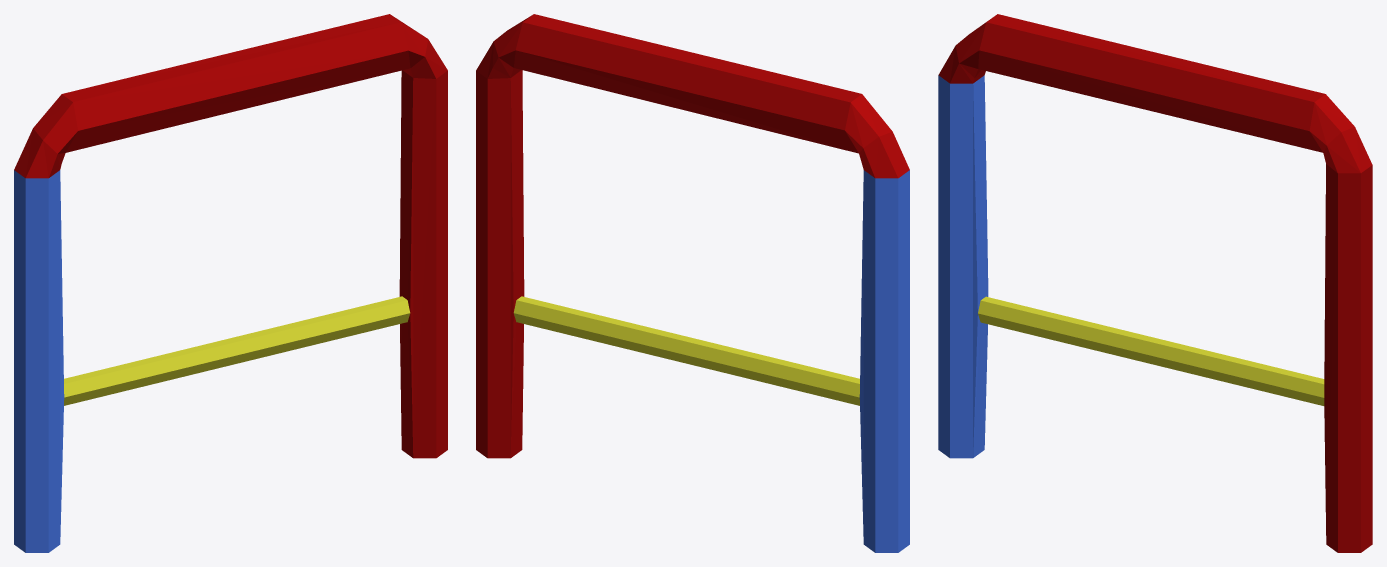
Rendered from Wieszak.fbx.
The picture shows the model from 3 angles, left to right: view 1: azimuth 30°, elevation 25°; view 2: azimuth 150°, elevation 25°; view 3: azimuth 330°, elevation 25°; orthographic projection.
Parts seen in each view (by area): view 1: Cylinder.001; view 2: Cylinder.001; view 3: Cylinder.001.
Boxes of the visible parts, box(x1,y1,x2,y2) form: Cylinder.001: box(14, 14, 447, 552); Cylinder.001: box(476, 14, 909, 552); Cylinder.001: box(938, 14, 1372, 552).
Size of the model in its own units: 16.91 by 176 by 177.
